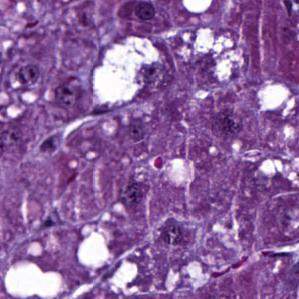ballooning: (89, 33, 161, 109)
